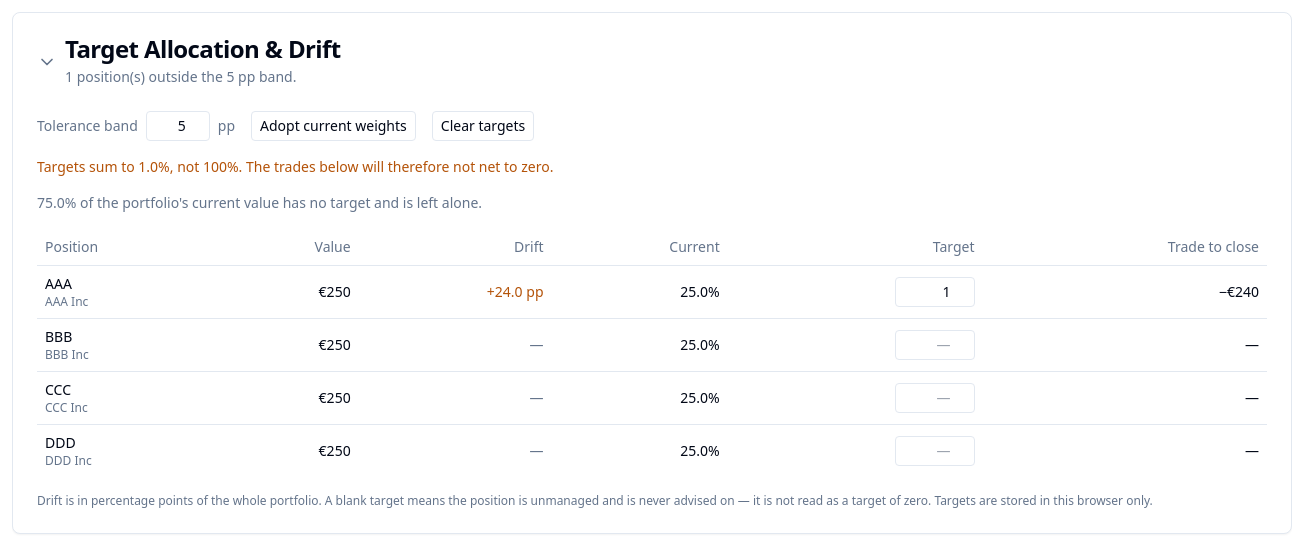
Test: RebalanceCard › adopt current weights › writes today's weights as the targets
The width and height of the screenshot is (1304, 551).
Click the button "Adopt current weights".
click(333, 126)  # box [251, 111, 416, 141]
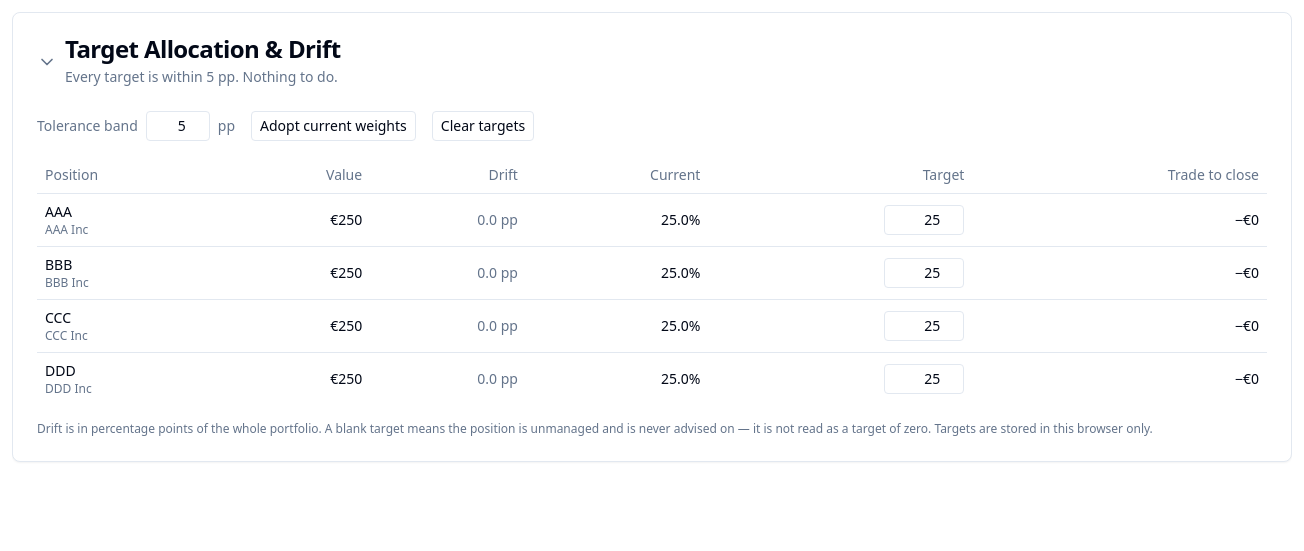
Result: the text "Every target is within 5 pp. Nothing to do." is shown at [65, 67, 341, 87]
